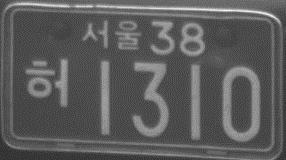0: (222, 64, 261, 144)
1: (95, 59, 117, 138), (186, 61, 207, 141)
3: (131, 60, 171, 137), (148, 17, 175, 56)
8: (178, 21, 207, 57)
서울_O: (81, 20, 142, 51)
허: (22, 57, 72, 110)
